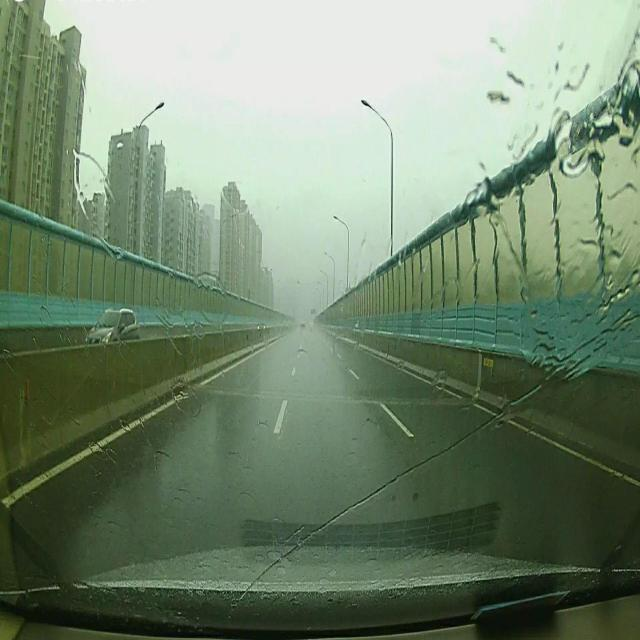car: (86, 306, 139, 349), (310, 321, 314, 328)
